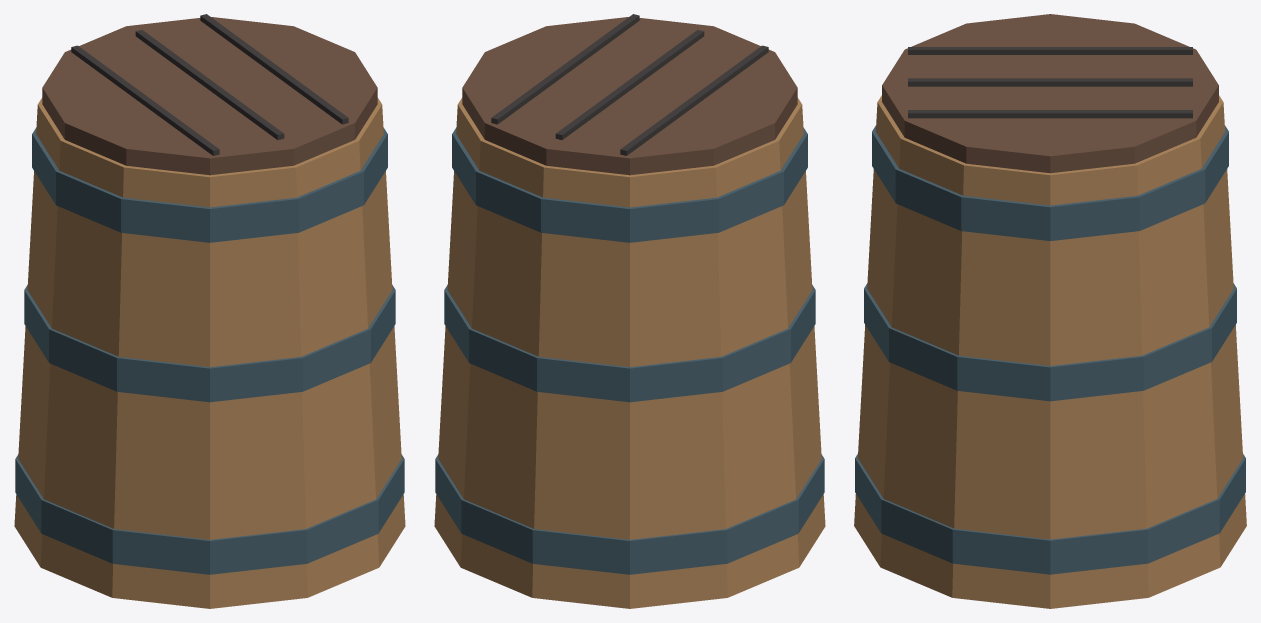
Rendered from barrel.glb.
3 renders of one model, left to right at view 1: azimuth 30°, elevation 25°; view 2: azimuth 150°, elevation 25°; view 3: azimuth 270°, elevation 25°, orthographic.
Visible parts, largest first — view 1: barrel, barrel-lid, iron-band, iron-band.001, iron-band.002, lid-joint.001, lid-joint, lid-joint.002; view 2: barrel, barrel-lid, iron-band, iron-band.001, iron-band.002, lid-joint.001, lid-joint, lid-joint.002; view 3: barrel, barrel-lid, iron-band, iron-band.001, iron-band.002, lid-joint.001, lid-joint.002, lid-joint.
Boxes of the visible parts, bbox=[...] form: barrel: bbox=[14, 97, 405, 608]; barrel-lid: bbox=[42, 17, 377, 175]; iron-band: bbox=[15, 454, 404, 574]; iron-band.001: bbox=[24, 285, 395, 402]; iron-band.002: bbox=[32, 128, 387, 242]; lid-joint.001: bbox=[135, 30, 284, 139]; lid-joint: bbox=[71, 45, 219, 155]; lid-joint.002: bbox=[200, 14, 348, 124]; barrel: bbox=[434, 97, 825, 608]; barrel-lid: bbox=[462, 17, 797, 175]; iron-band: bbox=[435, 454, 824, 574]; iron-band.001: bbox=[444, 285, 815, 402]; iron-band.002: bbox=[452, 128, 807, 242]; lid-joint.001: bbox=[555, 30, 704, 139]; lid-joint: bbox=[620, 45, 768, 155]; lid-joint.002: bbox=[491, 14, 639, 124]; barrel: bbox=[854, 95, 1246, 608]; barrel-lid: bbox=[882, 14, 1218, 173]; iron-band: bbox=[855, 454, 1245, 574]; iron-band.001: bbox=[864, 283, 1236, 401]; iron-band.002: bbox=[872, 125, 1228, 240]; lid-joint.001: bbox=[908, 78, 1192, 86]; lid-joint.002: bbox=[908, 110, 1192, 118]; lid-joint: bbox=[908, 47, 1192, 54].
Bounding box in the file's own units: 0.84 × 1.05 × 0.84.
